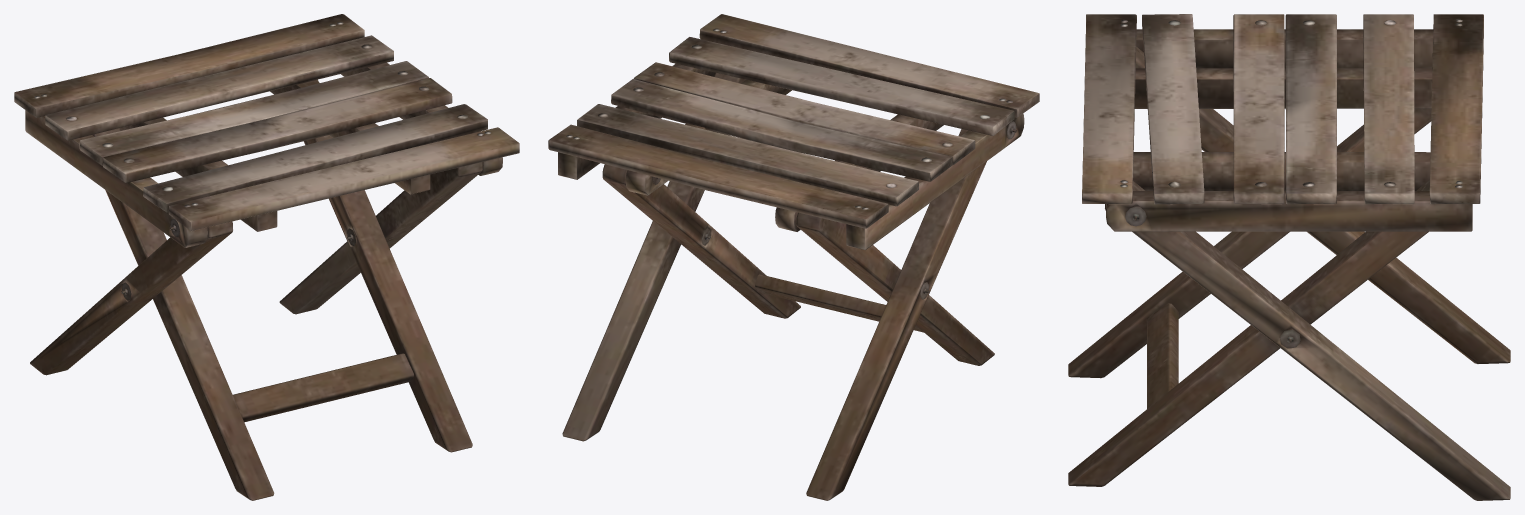
Rendered from foldstool.glb.
The picture shows the model from 3 angles, left to right: view 1: azimuth 30°, elevation 25°; view 2: azimuth 150°, elevation 25°; view 3: azimuth 270°, elevation 25°; orthographic projection. The views are drawn at different scales.
Visible parts, largest first — view 1: folding_wooden_stool; view 2: folding_wooden_stool; view 3: folding_wooden_stool.
Boxes of the visible parts, <box> form: folding_wooden_stool: <box>14,14,519,500</box>; folding_wooden_stool: <box>548,14,1039,500</box>; folding_wooden_stool: <box>1068,14,1510,500</box>.
Bounding box in the file's own units: 0.527 × 0.442 × 0.5471.
1 material, 1 textured.
